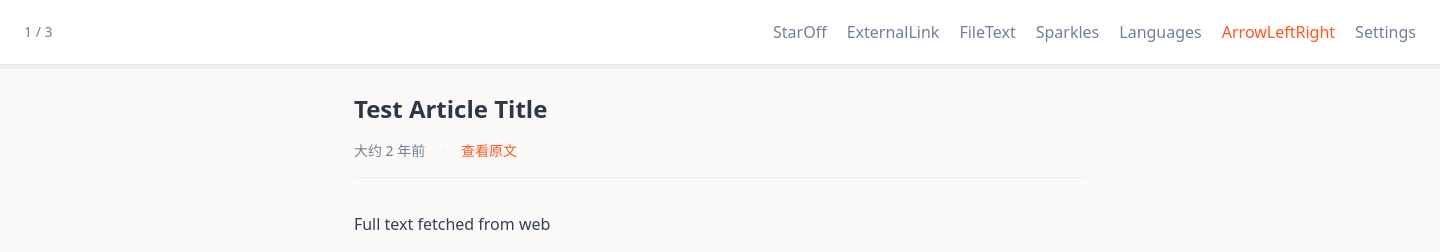
Scenario: ArticleViewer › 应该在点击切换按钮后显示原始内容
The image size is (1440, 252).
Click the button titled "切换为原始内容".
click(1278, 32)  # box [1214, 12, 1343, 52]
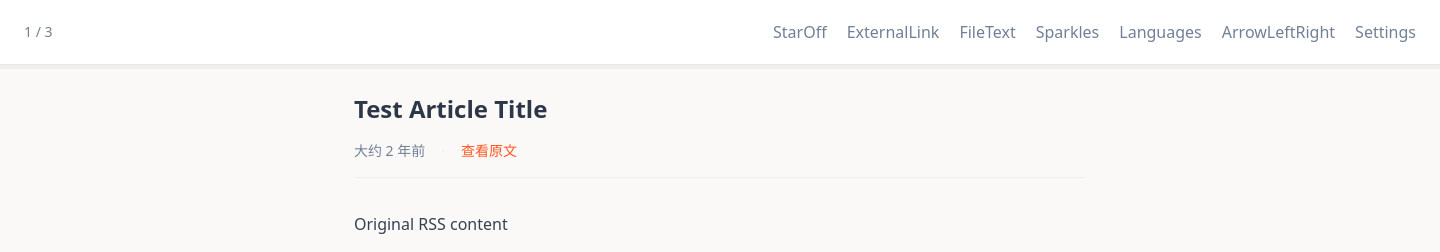
Expected: the text "Original RSS content" is shown, [354, 213, 508, 235]
Expected: the text "Full text fetched from web" is gone
